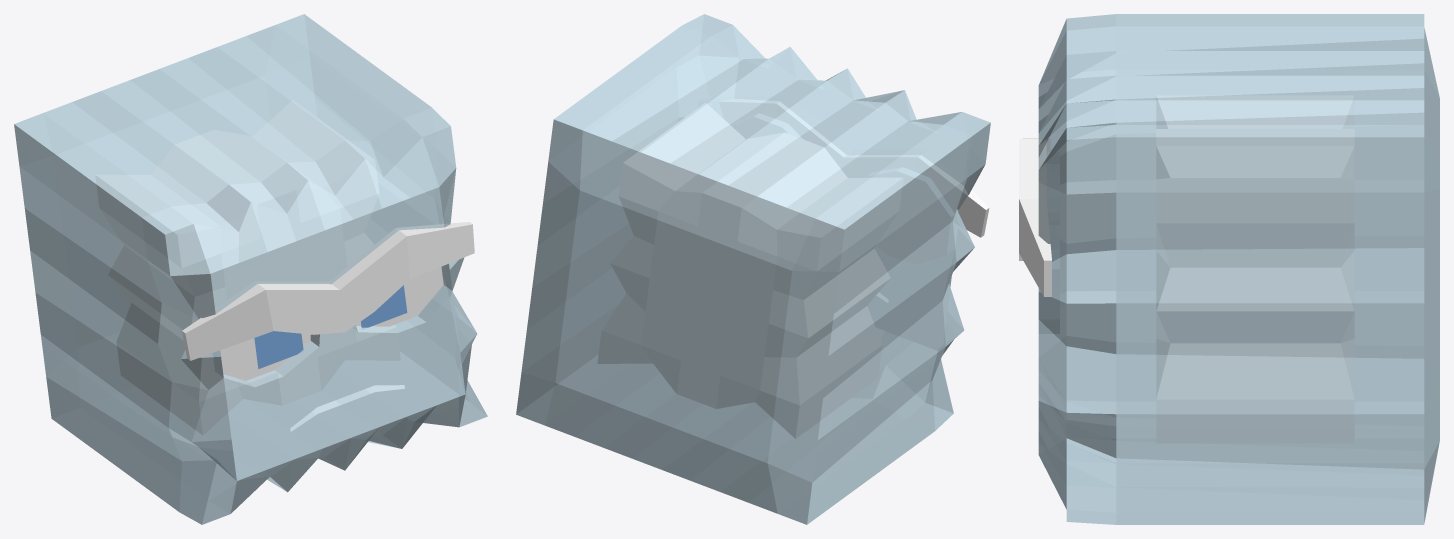
Rendered from CuboAnimado.fbx.
3 renders of one model, left to right at view 1: azimuth 30°, elevation 25°; view 2: azimuth 150°, elevation 25°; view 3: azimuth 270°, elevation 25°, orthographic. The views are drawn at different scales.
Visible parts, largest first — view 1: Cube; view 2: Cube; view 3: Cube.
Boxes of the visible parts, left/top/right/bottom form: Cube: left=14, top=14, right=487, bottom=524; Cube: left=516, top=14, right=990, bottom=524; Cube: left=1019, top=14, right=1439, bottom=524.
Bounding box in the file's own units: 245 × 245 × 227.
